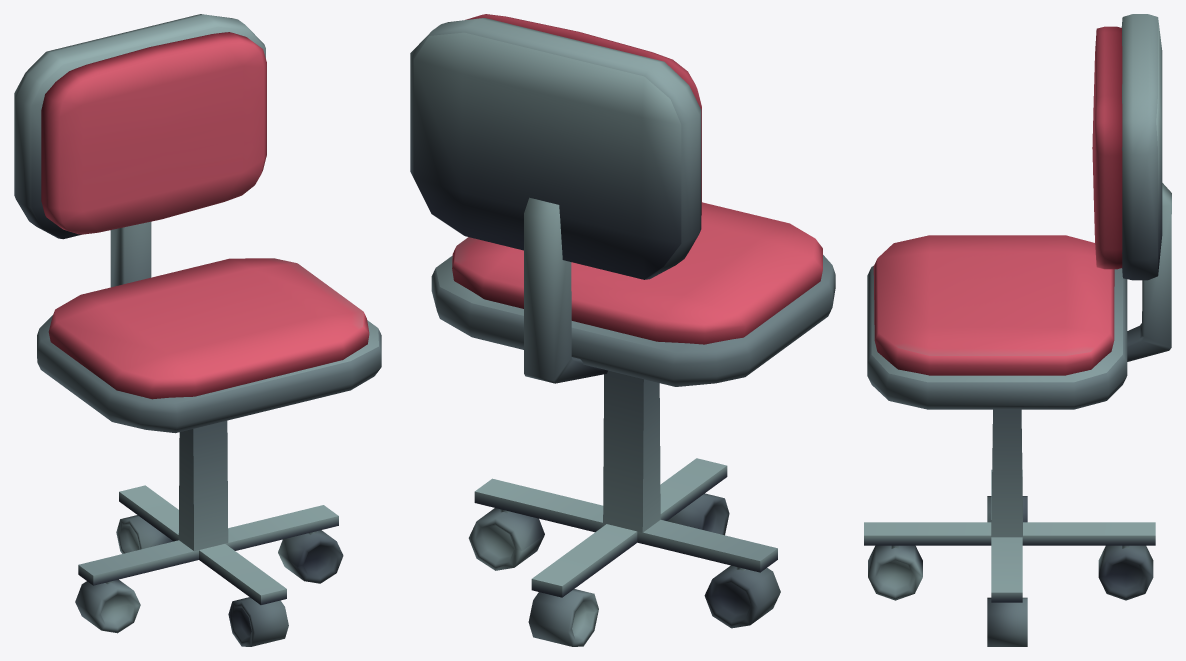
The model's file is mesh_office chair_005 (1).fbx.
3 views of the same model, side by side, from view 1: azimuth 30°, elevation 25°; view 2: azimuth 150°, elevation 25°; view 3: azimuth 270°, elevation 25° (orthographic). The views are drawn at different scales.
Visible parts, largest first — view 1: desk_chair; view 2: desk_chair; view 3: desk_chair.
Part boxes in pixels (left/top/right/bottom): desk_chair: left=14, top=14, right=381, bottom=646; desk_chair: left=410, top=14, right=835, bottom=646; desk_chair: left=864, top=14, right=1171, bottom=646.
Size of the model in its own units: 115 by 209 by 109.
